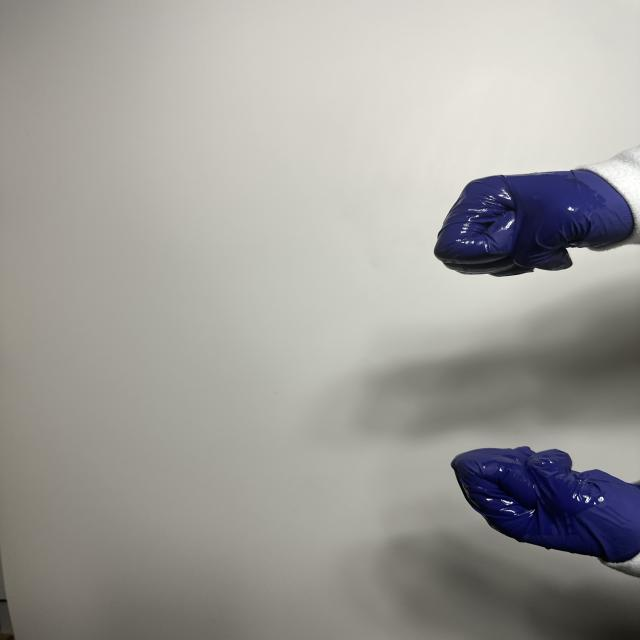gloves_contaminated: (451, 447, 640, 565), (434, 170, 635, 276)
